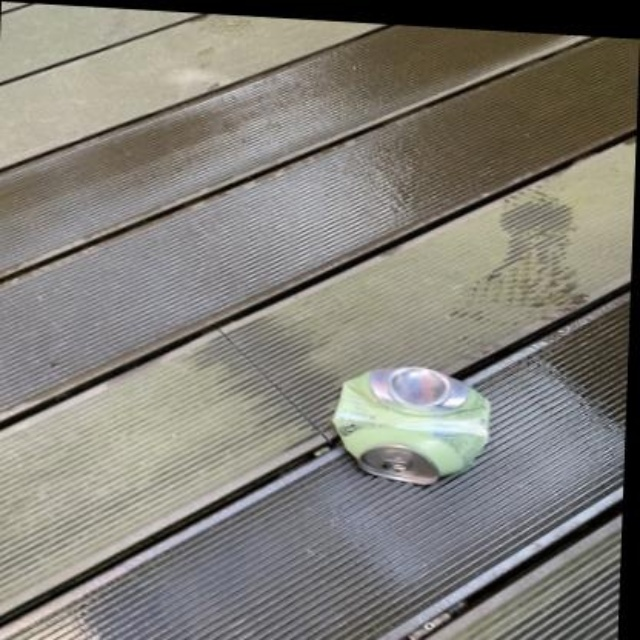trash: (332, 366, 489, 483)
